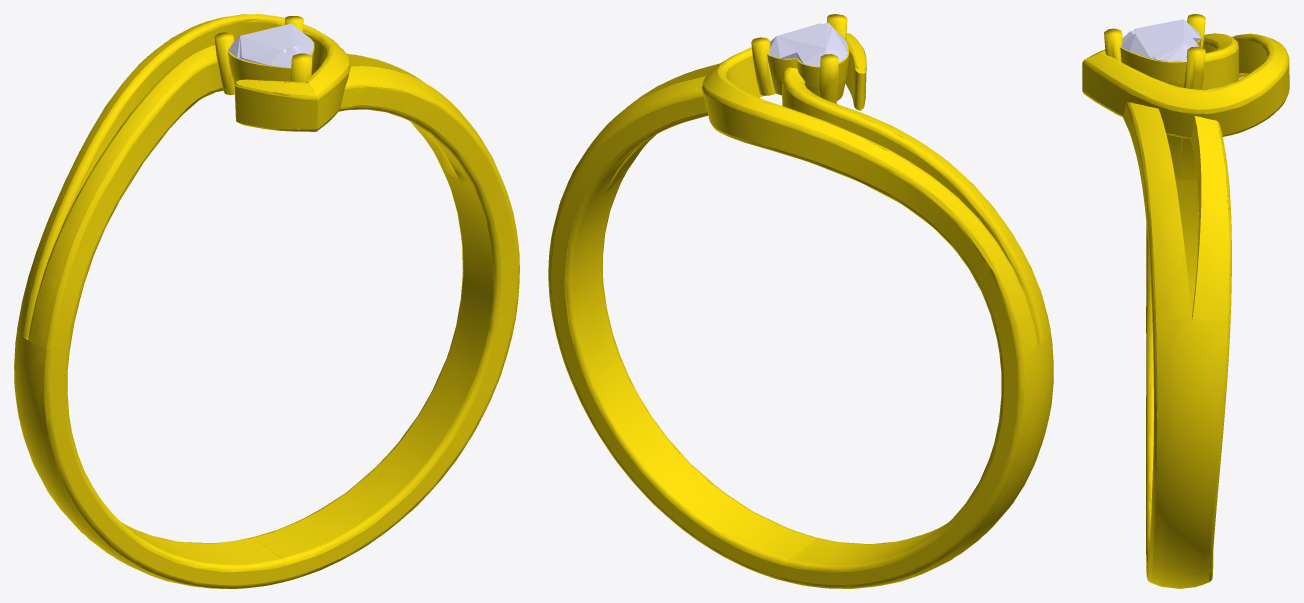
The model's file is DLR-D000675384.glb.
The picture shows the model from 3 angles, left to right: view 1: azimuth 30°, elevation 25°; view 2: azimuth 150°, elevation 25°; view 3: azimuth 270°, elevation 25°; orthographic projection. The views are drawn at different scales.
Visible parts, largest first — view 1: highPolyMesh, lowPolyMesh; view 2: lowPolyMesh, highPolyMesh; view 3: highPolyMesh, lowPolyMesh.
Part boxes in pixels (box(x1,y1,x2,y2)): highPolyMesh: box(14, 14, 519, 588); lowPolyMesh: box(14, 14, 519, 588); lowPolyMesh: box(548, 14, 1053, 588); highPolyMesh: box(548, 14, 1053, 588); highPolyMesh: box(1082, 14, 1289, 588); lowPolyMesh: box(1082, 14, 1289, 587).
Bounding box in the file's own units: 0.0196 × 0.0208 × 0.00737.
